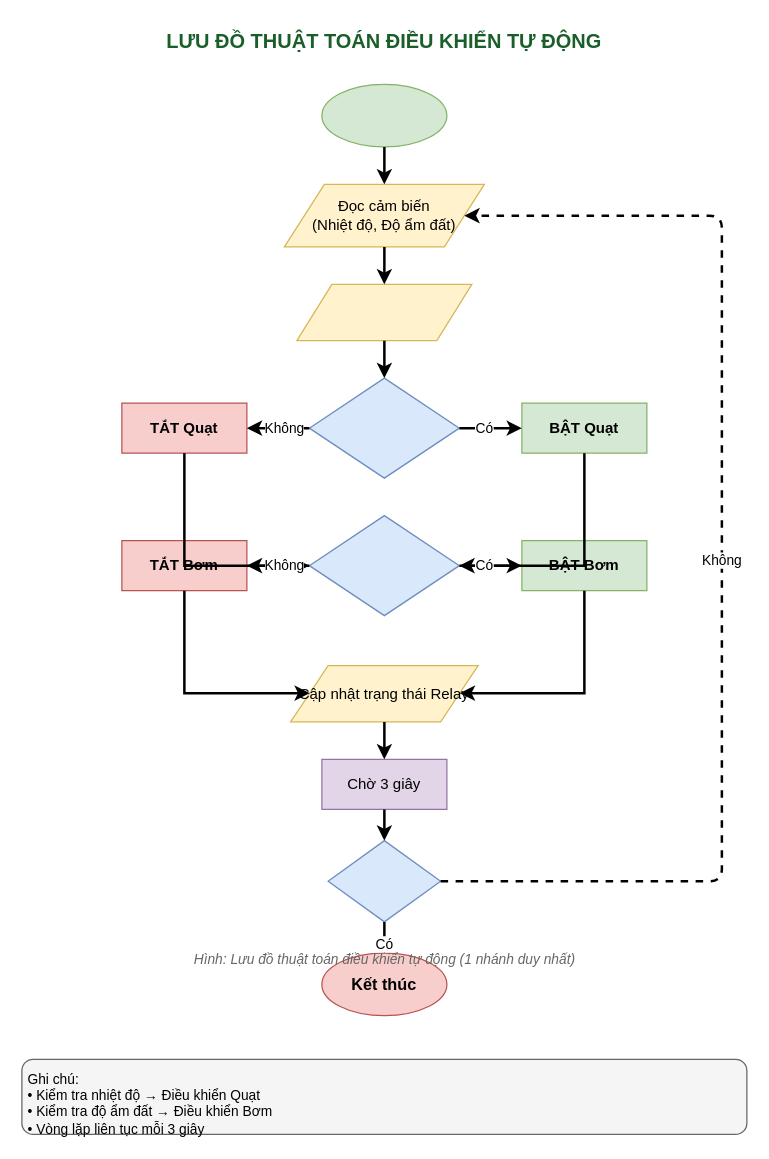
The diagram is 769 pixels wide and 1159 high, and some of its shapes have lost their labels. Each missing label, with the box of its shape:
Bắt đầu: (321, 83, 447, 147)
Dừng điều khiển?: (327, 839, 441, 922)
Nhiệt độ > Ngưỡng?: (308, 377, 459, 478)
Đọc ngưỡng cài đặt: (296, 283, 472, 341)
Độ ẩm đất < Ngưỡng?: (308, 514, 459, 616)
